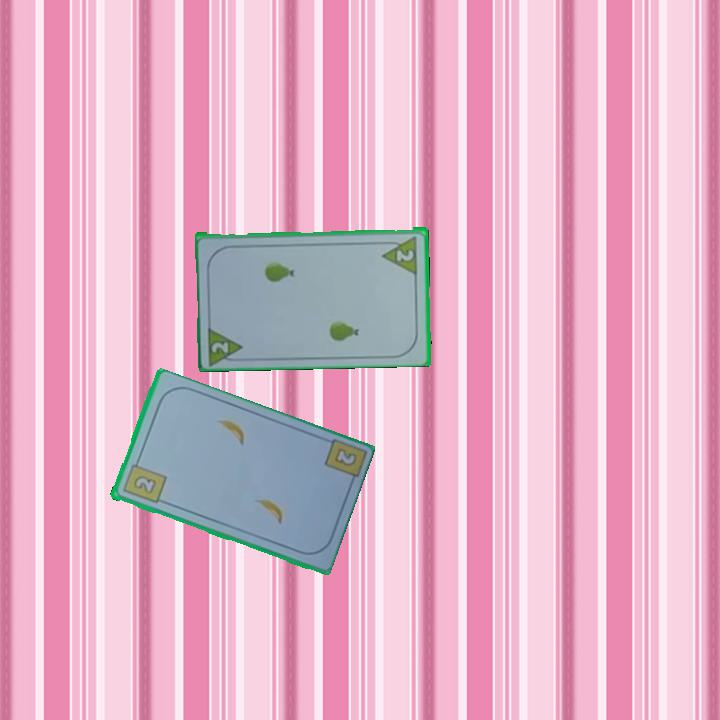2b: (119, 455, 168, 506), (330, 445, 359, 470)
2p: (379, 232, 420, 275), (208, 338, 232, 355)
